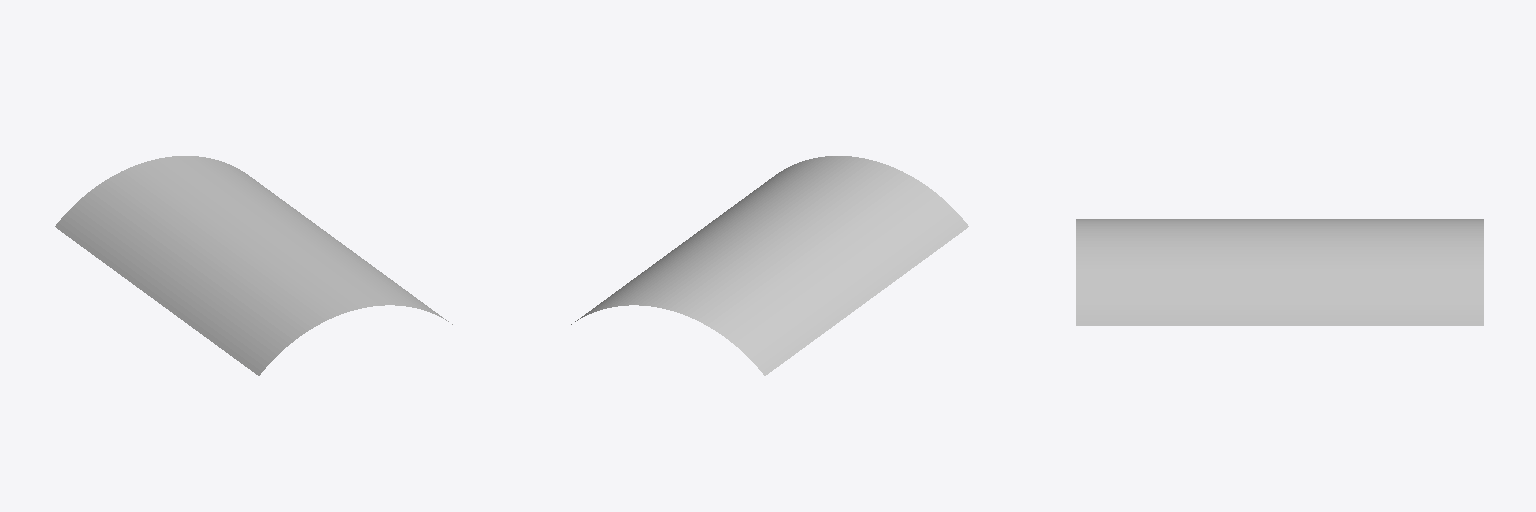
File: CylinderPlane.obj
3 renders of one model, left to right at view 1: azimuth 30°, elevation 25°; view 2: azimuth 150°, elevation 25°; view 3: azimuth 270°, elevation 25°, orthographic.
Visible parts, largest first — view 1: mesh0; view 2: mesh0; view 3: mesh0.
Boxes of the visible parts, <box> form: mesh0: <box>55,156,452,375</box>; mesh0: <box>571,156,968,375</box>; mesh0: <box>1076,219,1483,325</box>.
Size of the model in its own units: 0.28 by 0.058 by 0.5.